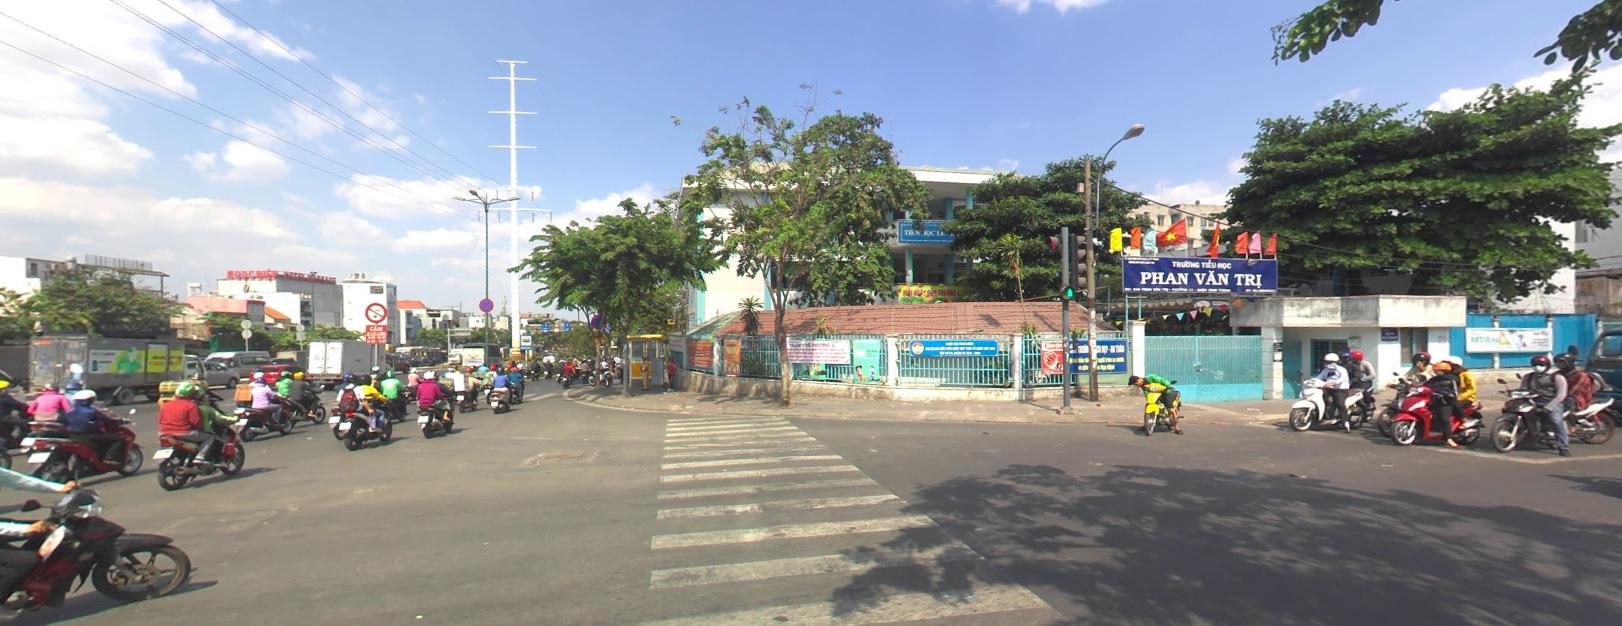Cam con lai: (363, 301, 387, 322)
Cam dung va do: (478, 297, 493, 311), (590, 312, 605, 327)
Nguy hiem: (591, 330, 605, 342)
